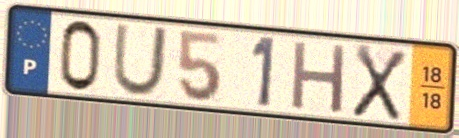0: (57, 18, 104, 93)
1: (248, 34, 277, 111)
5: (176, 27, 224, 105)
H: (288, 38, 350, 116)
U: (109, 22, 171, 100)
X: (349, 41, 410, 124)
